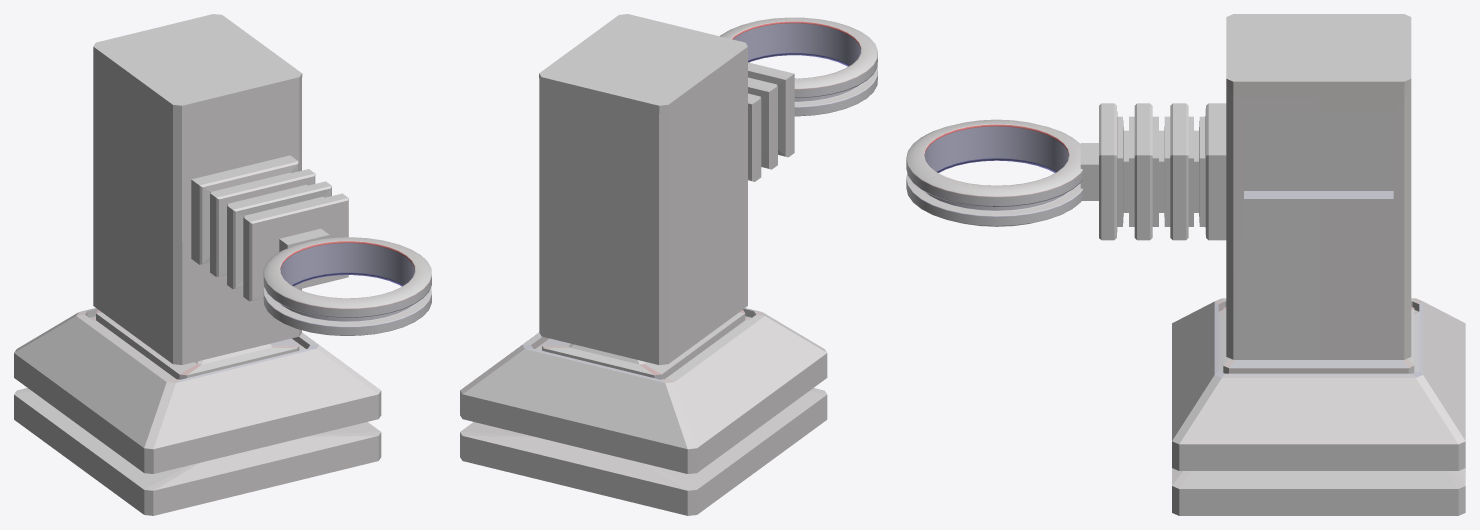
Rendered from spawn machine no lever h.fbx.
The picture shows the model from 3 angles, left to right: view 1: azimuth 30°, elevation 25°; view 2: azimuth 150°, elevation 25°; view 3: azimuth 270°, elevation 25°; orthographic projection. The views are drawn at different scales.
Visible parts, largest first — view 1: geo1; view 2: geo1; view 3: geo1.
Boxes of the visible parts, x1,y1,x2,y2 form: geo1: (14, 14, 431, 515); geo1: (460, 14, 877, 515); geo1: (906, 14, 1465, 515).
Size of the model in its own units: 200 by 305 by 381.
